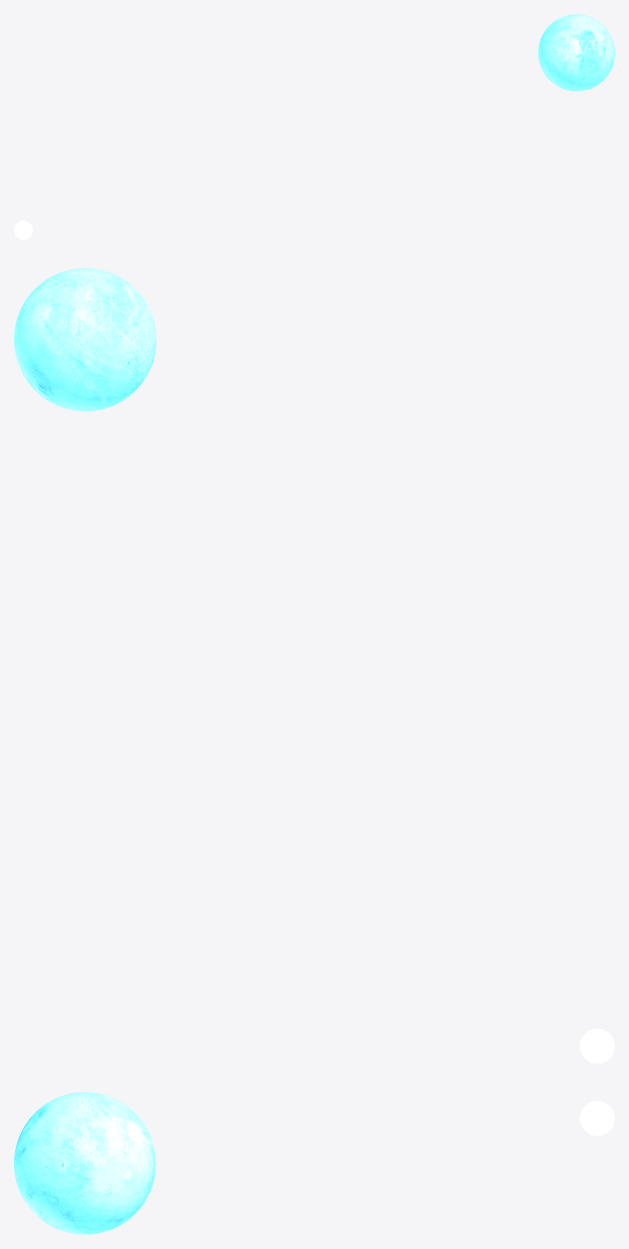
3 views of the same model, one above another, from view 1: azimuth 30°, elevation 25°; view 2: azimuth 150°, elevation 25°; view 3: azimuth 270°, elevation 25° (orthographic). The views are drawn at different scales.
Parts seen in each view (by area): view 1: JEHDA; view 2: JEHDA; view 3: JEHDA, SUN.
Boxes of the visible parts, x1=… form: JEHDA: x1=538, y1=14, x2=614, y2=91; JEHDA: x1=14, y1=268, x2=156, y2=411; JEHDA: x1=14, y1=1092, x2=155, y2=1234; SUN: x1=580, y1=1101, x2=614, y2=1135.
Bounding box in the file's own units: 16.92 × 7.86 × 10.45.
2 materials, 1 textured.
